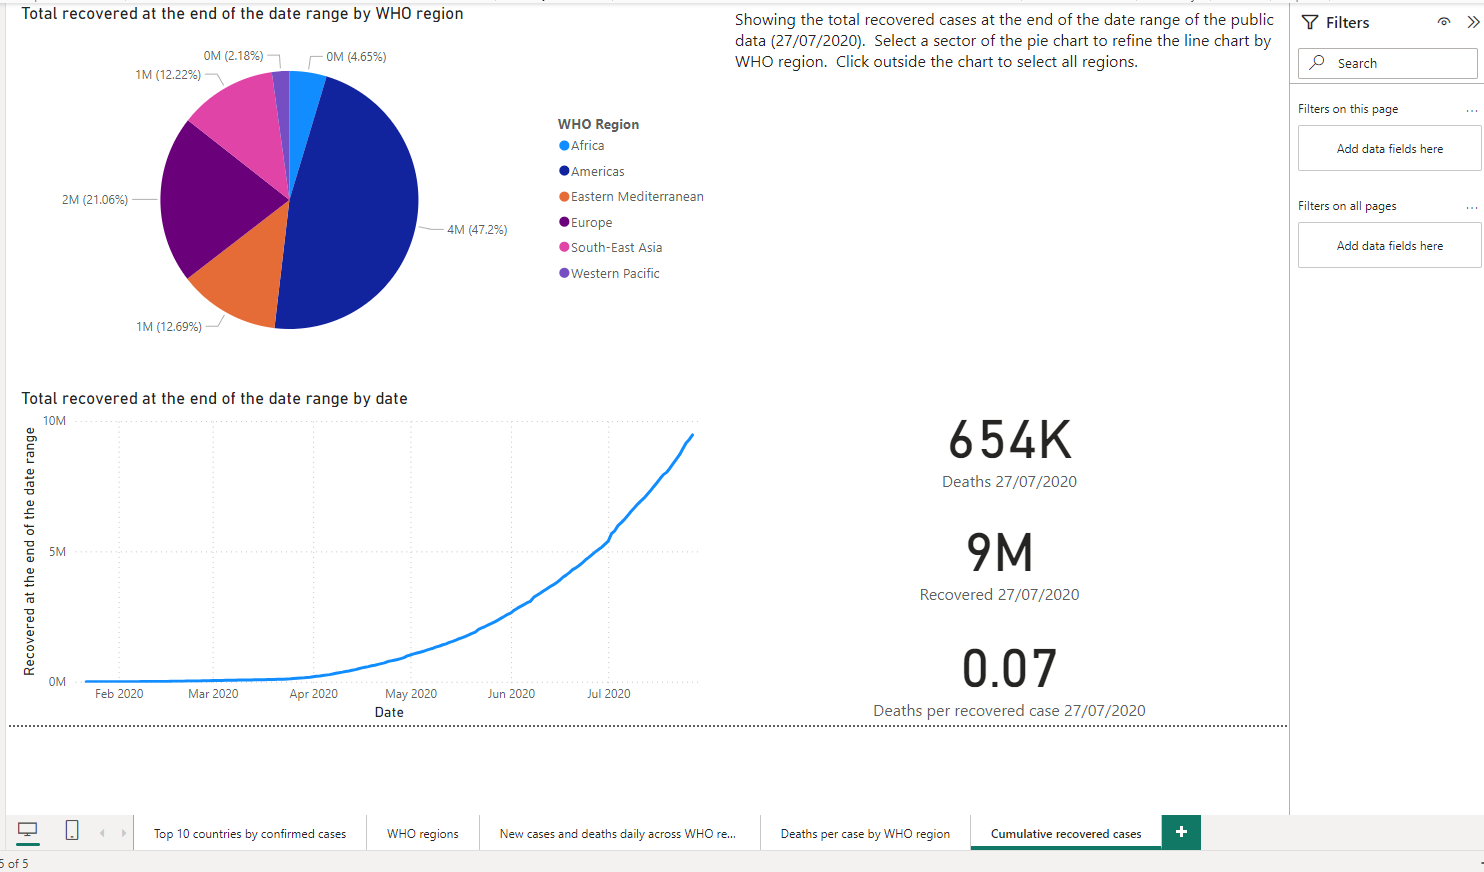

Layout of this report page (visuals, bound fields, positions):
{"tool":"powerbi","page":{"name":"Cumulative recovered cases","canvas":[1280,720],"ordinal":4},"visuals":[{"type":"pieChart","title":"Total recovered at the end of the date range by WHO region","fields":{"Series":["full_grouped.WHO Region"],"Y":["full_grouped.RecoveredAtEndOfDateRange"]},"box":[10.5,0,701.6,374],"z":0},{"type":"lineChart","title":"Total recovered at the end of the date range by date","fields":{"Y":["full_grouped.RecoveredAtEndOfDateRange"],"Category":["full_grouped.Date"]},"box":[10,384,702,336],"z":1000},{"type":"textbox","box":[722,0,558,374],"z":2000},{"type":"card","fields":{"Values":["full_grouped.DeathsAtEndOfDateRange"]},"box":[722.5,384.5,557.5,108],"z":3000},{"type":"card","fields":{"Values":["full_grouped.RecoveredAtEndOfDateRange"]},"box":[712,497.1,557.5,108],"z":4000},{"type":"card","fields":{"Values":["full_grouped.DeathsPerRecovered"]},"box":[722.5,612.1,557.5,108],"z":5000}]}

Visuals, with their boxes on the page's 1280x720 design canvas (x1, y1, x2, y2). These are canvas units, not pixel positions in the 1484x872 screenshot, which may show the page scaled, cropped or inside an application window:
"Total recovered at the end of the date range by WHO region" pieChart: Rect(10, 0, 712, 374)
"Total recovered at the end of the date range by date" lineChart: Rect(10, 384, 712, 720)
textbox: Rect(722, 0, 1280, 374)
card - full_grouped.DeathsAtEndOfDateRange: Rect(722, 384, 1280, 492)
card - full_grouped.RecoveredAtEndOfDateRange: Rect(712, 497, 1270, 605)
card - full_grouped.DeathsPerRecovered: Rect(722, 612, 1280, 720)
